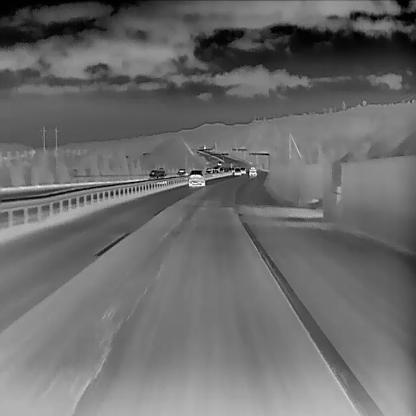car: (186, 168, 206, 186), (147, 166, 166, 184), (175, 168, 187, 179), (248, 166, 256, 176), (233, 166, 240, 176), (238, 166, 246, 174)
